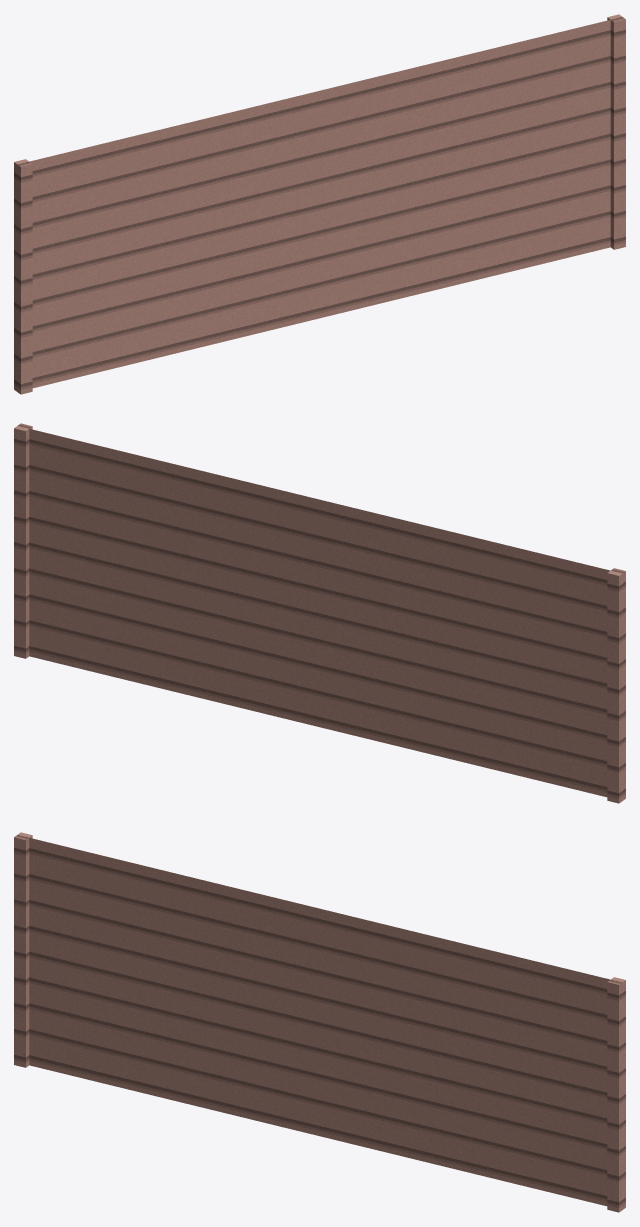
The model's file is fence_high_tensile_electric.glb.
The picture shows the model from 3 angles, top to bottom: view 1: azimuth 30°, elevation 25°; view 2: azimuth 150°, elevation 25°; view 3: azimuth 330°, elevation 25°; orthographic projection.
Visible parts, largest first — view 1: fence_high_tensile_electric-col; view 2: fence_high_tensile_electric-col; view 3: fence_high_tensile_electric-col.
Part boxes in pixels (x1,y1,x2,y2): fence_high_tensile_electric-col: (14,14,625,394); fence_high_tensile_electric-col: (14,423,625,803); fence_high_tensile_electric-col: (14,832,625,1212).
Size of the model in its own units: 3.06 by 1.1 by 0.06.
Materials: 1 (1 with a texture image).
